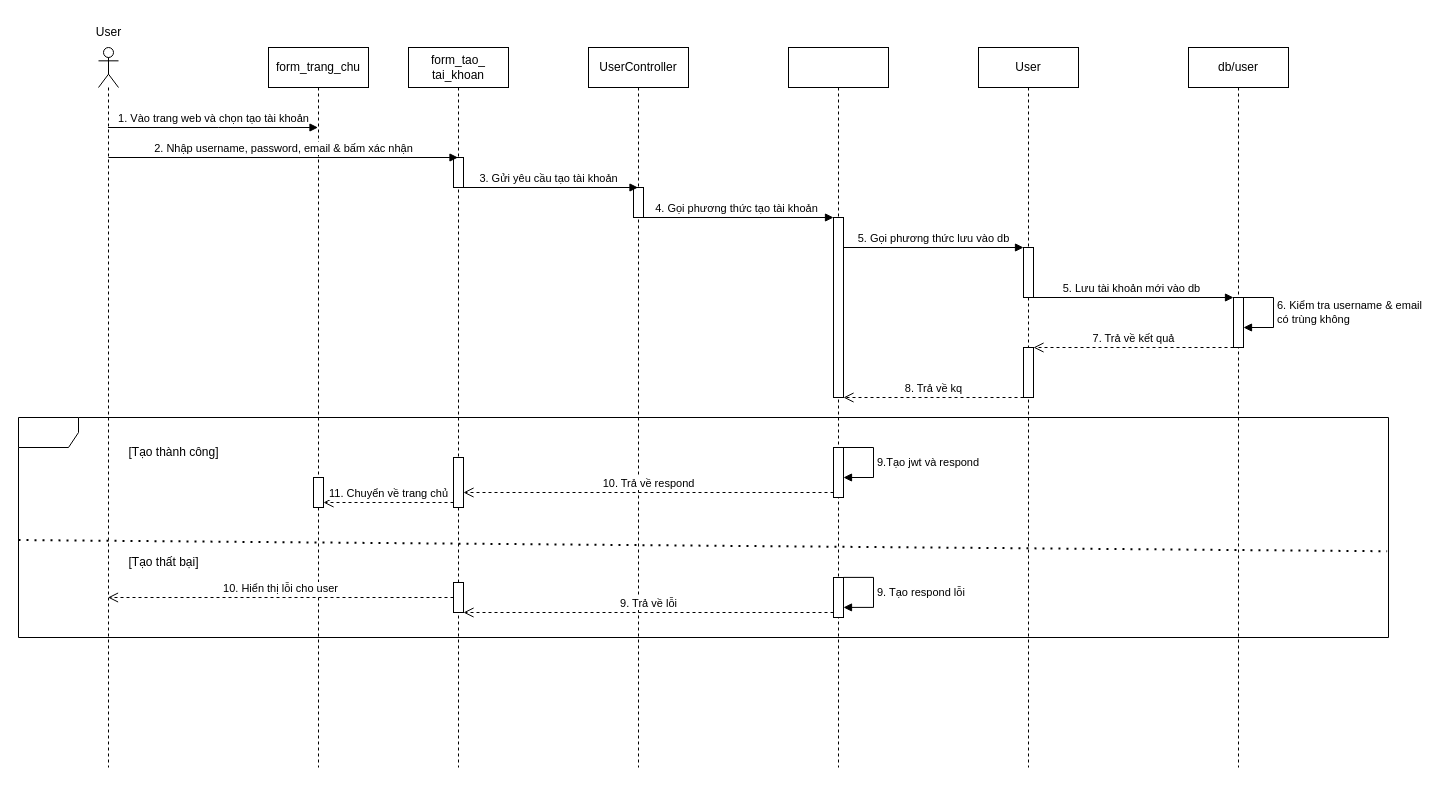
The diagram is 1439 pixels wide and 785 high, and some of its shapes have lost their labels. Here are the shapes that lost their labels. From the top down, the box of each, then its label:
(788, 46, 888, 768): UserService
(18, 416, 1388, 638): alt
